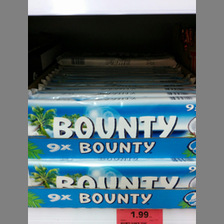chocolate: (27, 98, 196, 142), (28, 159, 196, 190)
